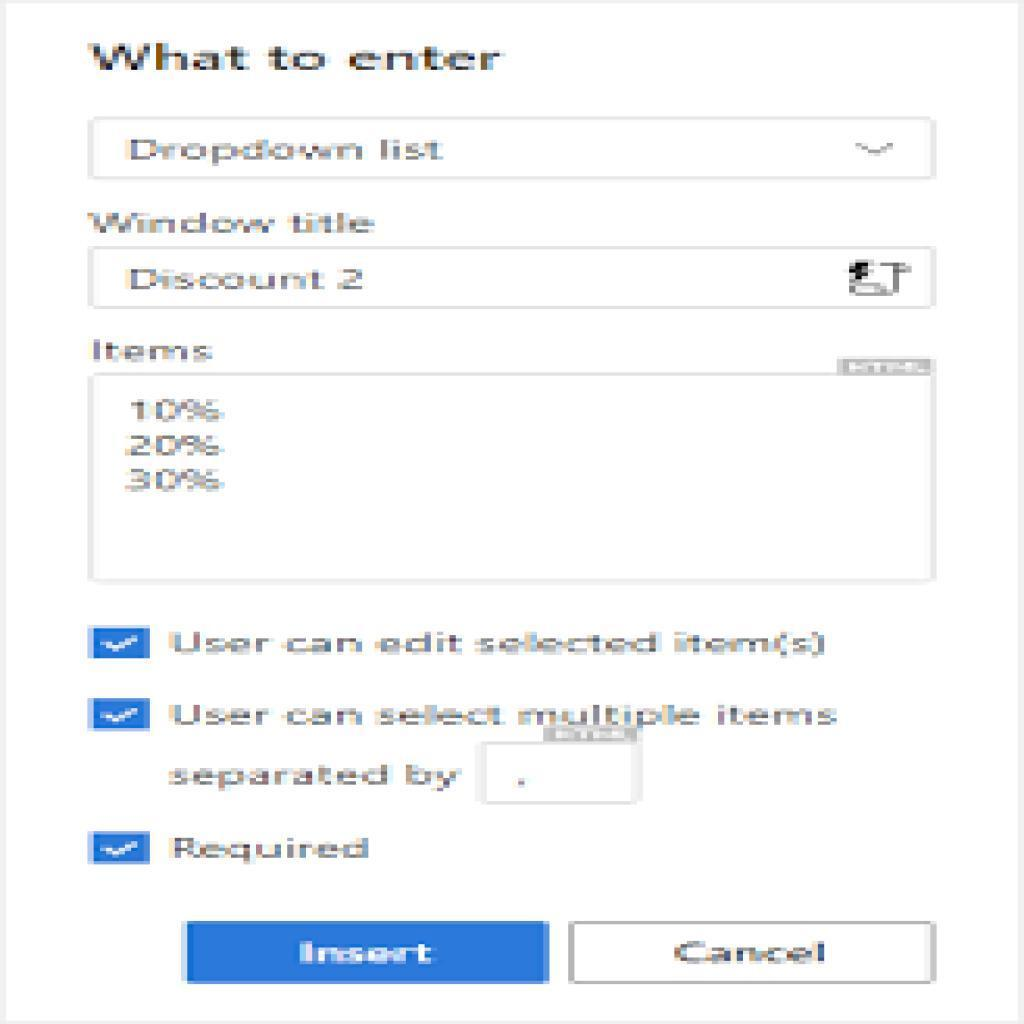button: (570, 921, 940, 986), (186, 923, 552, 984)
checkbox: (88, 626, 153, 661), (91, 833, 152, 865), (89, 699, 151, 730)
dropdown: (84, 118, 938, 184)
icon: (827, 252, 928, 309)
input: (86, 244, 825, 308)
